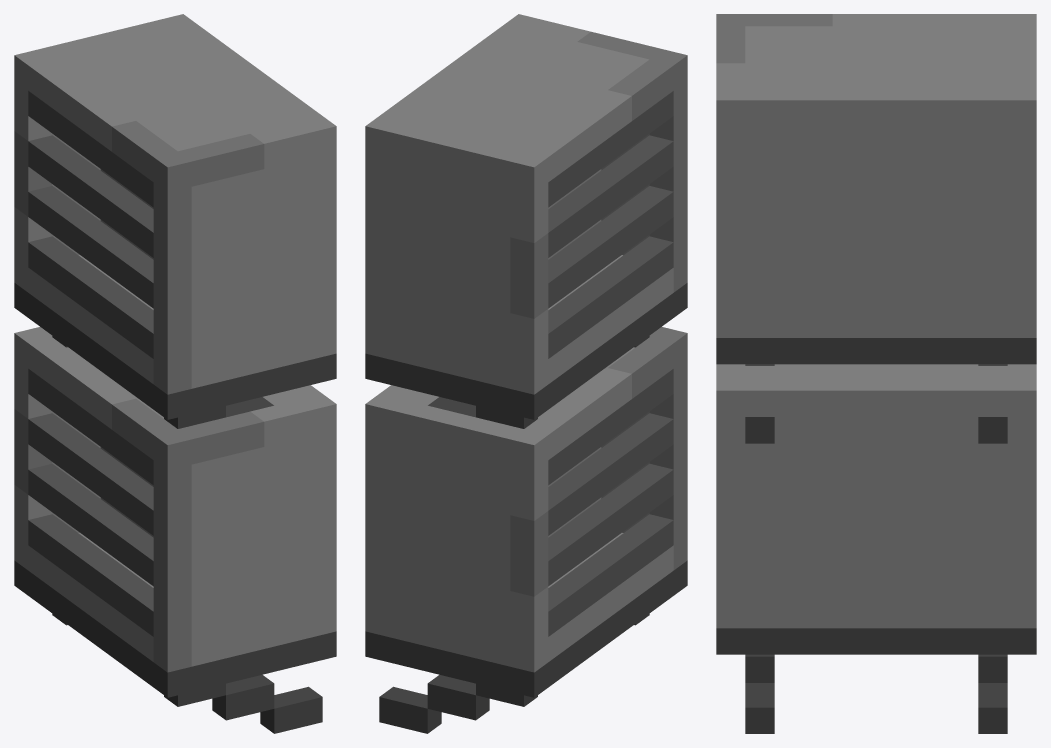
Rendered from condenserUnitTypeB.glb.
The picture shows the model from 3 angles, left to right: view 1: azimuth 30°, elevation 25°; view 2: azimuth 150°, elevation 25°; view 3: azimuth 270°, elevation 25°; orthographic projection. The views are drawn at different scales.
Parts seen in each view (by area): view 1: ObjObject; view 2: ObjObject; view 3: ObjObject.
Boxes of the visible parts, left/top/right/bottom form: ObjObject: left=14, top=14, right=336, bottom=733; ObjObject: left=365, top=14, right=687, bottom=733; ObjObject: left=716, top=14, right=1036, bottom=733.
Size of the model in its own units: 0.7 by 2.4 by 1.1.
1 material, 1 textured.
